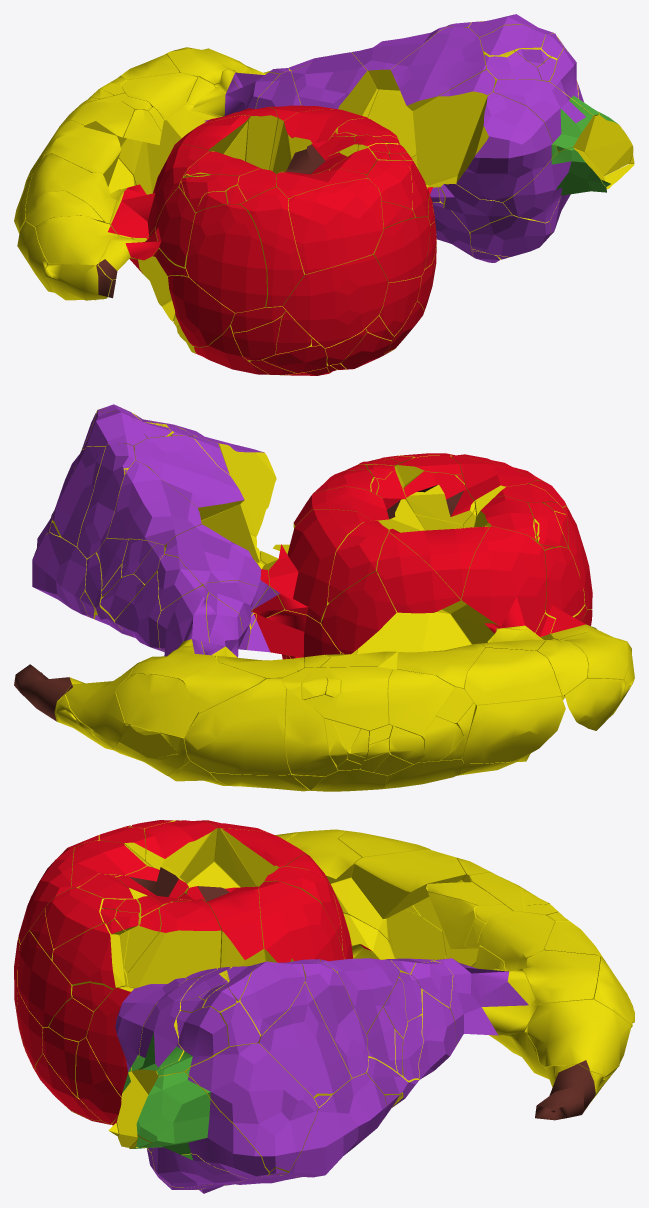
Rendered from Fruits.fbx.
3 renders of one model, top to bottom at view 1: azimuth 30°, elevation 25°; view 2: azimuth 150°, elevation 25°; view 3: azimuth 270°, elevation 25°, orthographic. The views are drawn at different scales.
Parts seen in each view (by area): view 1: BézierCurve_cell.017, BézierCurve_cell.133, BézierCurve_cell.170, BézierCurve_cell.124, BézierCurve_cell.174, BézierCurve_cell.237, BézierCurve_cell.167, BézierCurve_cell.235, BézierCurve_cell.056, BézierCurve_cell.096, BézierCurve_cell.217, BézierCurve_cell.153 (+58 smaller); view 2: BézierCurve_cell.128, BézierCurve_cell.217, BézierCurve_cell.107, BézierCurve_cell.223, BézierCurve_cell.204, BézierCurve_cell.237, BézierCurve_cell.082, BézierCurve_cell.056, BézierCurve_cell.078, BézierCurve_cell.036, BézierCurve_cell.058, BézierCurve_cell.171 (+57 smaller); view 3: BézierCurve_cell.048, BézierCurve_cell.041, BézierCurve_cell.179, BézierCurve_cell.244_cell.002, BézierCurve_cell.105, BézierCurve_cell.039, BézierCurve_cell.089, BézierCurve_cell.107, BézierCurve_cell.109, BézierCurve_cell.148, BézierCurve_cell.236, BézierCurve_cell.275_cell.006 (+55 smaller).
Boxes of the visible parts, x1=… form: BézierCurve_cell.017: x1=456, y1=92, x2=557, y2=202; BézierCurve_cell.133: x1=288, y1=178, x2=383, y2=274; BézierCurve_cell.170: x1=186, y1=204, x2=266, y2=312; BézierCurve_cell.124: x1=283, y1=254, x2=388, y2=347; BézierCurve_cell.174: x1=412, y1=69, x2=496, y2=185; BézierCurve_cell.237: x1=391, y1=27, x2=486, y2=110; BézierCurve_cell.167: x1=240, y1=187, x2=305, y2=307; BézierCurve_cell.235: x1=503, y1=147, x2=606, y2=222; BézierCurve_cell.056: x1=291, y1=52, x2=376, y2=115; BézierCurve_cell.096: x1=493, y1=79, x2=594, y2=152; BézierCurve_cell.217: x1=110, y1=144, x2=208, y2=238; BézierCurve_cell.153: x1=99, y1=187, x2=195, y2=279; BézierCurve_cell.128: x1=184, y1=678, x2=291, y2=775; BézierCurve_cell.217: x1=461, y1=526, x2=557, y2=640; BézierCurve_cell.107: x1=269, y1=509, x2=372, y2=623; BézierCurve_cell.223: x1=462, y1=696, x2=565, y2=763; BézierCurve_cell.204: x1=107, y1=460, x2=201, y2=548; BézierCurve_cell.237: x1=133, y1=435, x2=244, y2=520; BézierCurve_cell.082: x1=464, y1=647, x2=561, y2=704; BézierCurve_cell.056: x1=165, y1=524, x2=269, y2=614; BézierCurve_cell.078: x1=116, y1=673, x2=198, y2=737; BézierCurve_cell.036: x1=377, y1=533, x2=460, y2=613; BézierCurve_cell.058: x1=298, y1=667, x2=392, y2=731; BézierCurve_cell.171: x1=321, y1=571, x2=396, y2=654; BézierCurve_cell.048: x1=184, y1=1043, x2=318, y2=1176; BézierCurve_cell.041: x1=136, y1=1071, x2=268, y2=1178; BézierCurve_cell.179: x1=524, y1=999, x2=631, y2=1077; BézierCurve_cell.244_cell.002: x1=127, y1=899, x2=221, y2=988; BézierCurve_cell.105: x1=434, y1=958, x2=538, y2=1044; BézierCurve_cell.039: x1=257, y1=982, x2=351, y2=1099; BézierCurve_cell.089: x1=281, y1=1073, x2=386, y2=1177; BézierCurve_cell.107: x1=259, y1=881, x2=344, y2=962; BézierCurve_cell.109: x1=351, y1=849, x2=465, y2=918; BézierCurve_cell.148: x1=186, y1=886, x2=265, y2=967; BézierCurve_cell.236: x1=302, y1=962, x2=368, y2=1077; BézierCurve_cell.275_cell.006: x1=144, y1=820, x2=217, y2=883.
Bounding box in the file's own units: 221 × 92.62 × 189.
